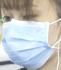with_mask: (1, 1, 61, 70)
